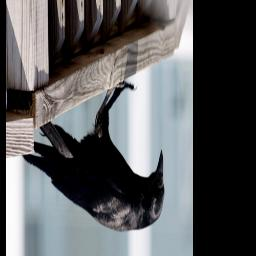Crow: (21, 81, 165, 234)
